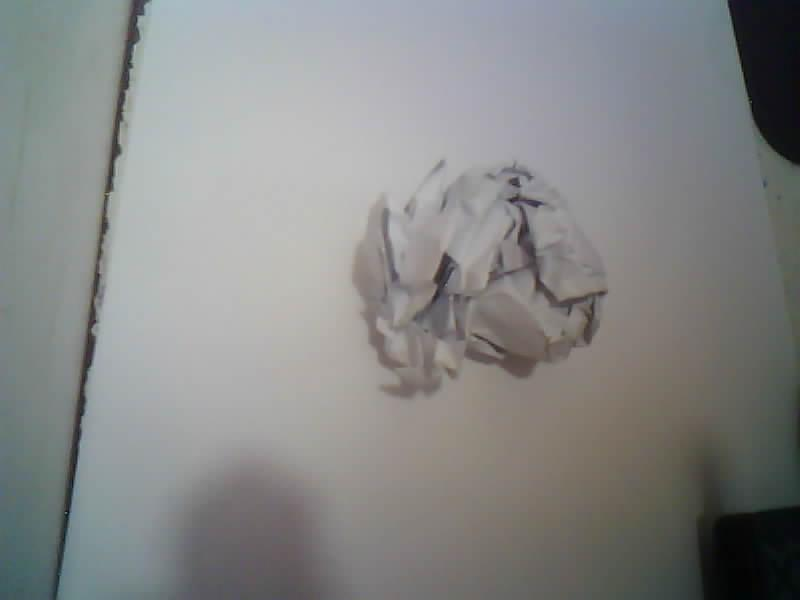biodegradable: (364, 161, 606, 385)
